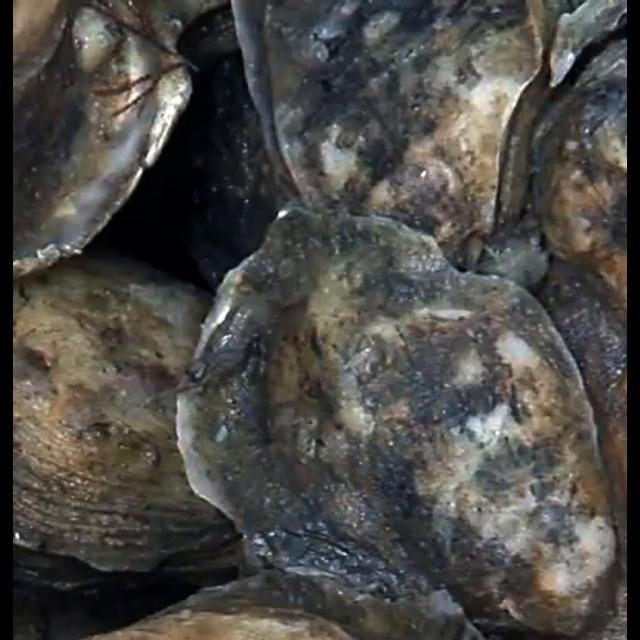Oyster-Closed: (179, 209, 618, 639), (232, 0, 561, 269), (13, 0, 231, 275), (533, 257, 627, 639), (74, 565, 481, 639), (180, 4, 281, 283), (534, 40, 627, 321), (548, 0, 627, 85)
Oyster-Open: (13, 239, 246, 593)
